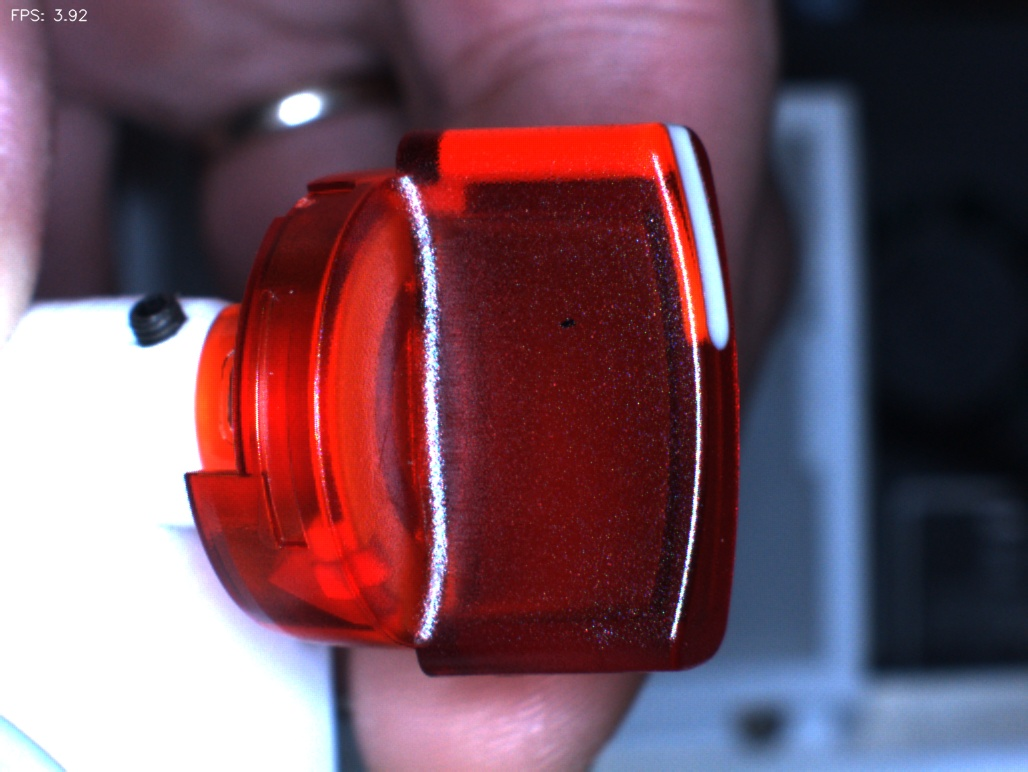PointNoir: (529, 285, 605, 359)
